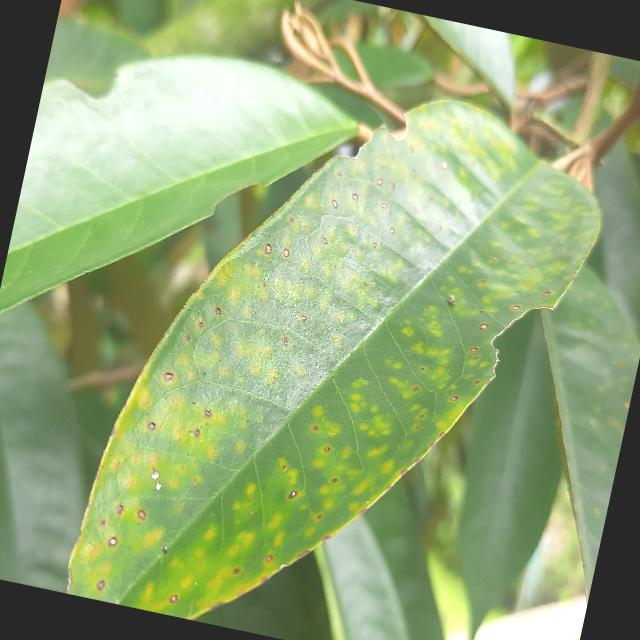Leaf Spot: (38, 21, 630, 639)
